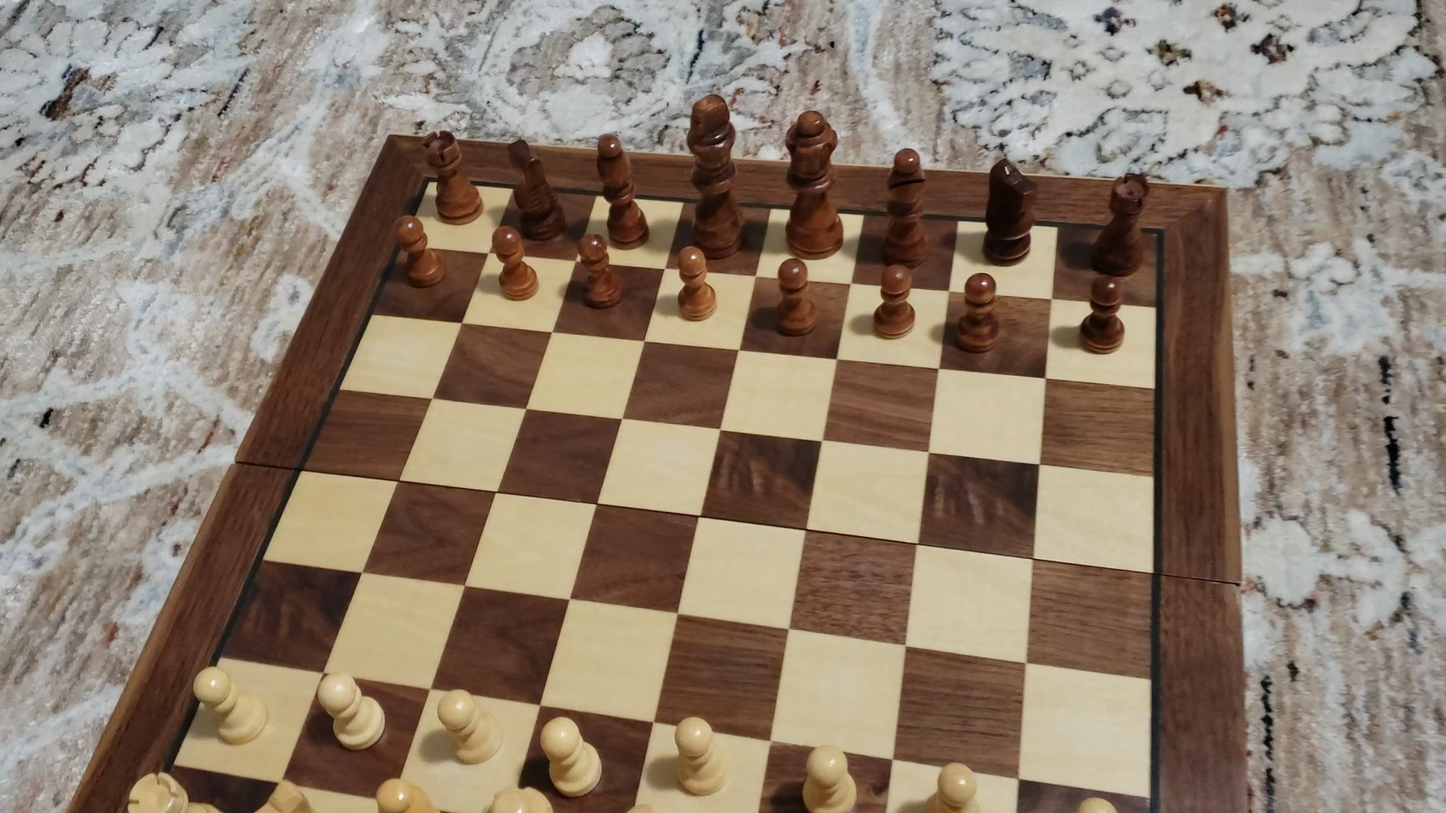black-bishop: (595, 130, 651, 248), (883, 146, 929, 266)
black-king: (686, 91, 741, 257)
black-knight: (981, 155, 1038, 265), (507, 136, 565, 242)
black-pawn: (1078, 273, 1130, 356), (953, 269, 1001, 356), (394, 213, 445, 290), (577, 232, 625, 311), (490, 224, 537, 304), (773, 255, 817, 338), (872, 261, 917, 341), (673, 243, 716, 324)
black-queen: (781, 106, 844, 257)
black-rook: (1088, 169, 1151, 279), (423, 129, 481, 224)
white-pawn: (186, 663, 273, 750), (312, 670, 390, 754), (536, 714, 607, 801), (433, 685, 506, 767), (668, 712, 732, 800), (796, 740, 863, 812), (922, 758, 987, 812)
